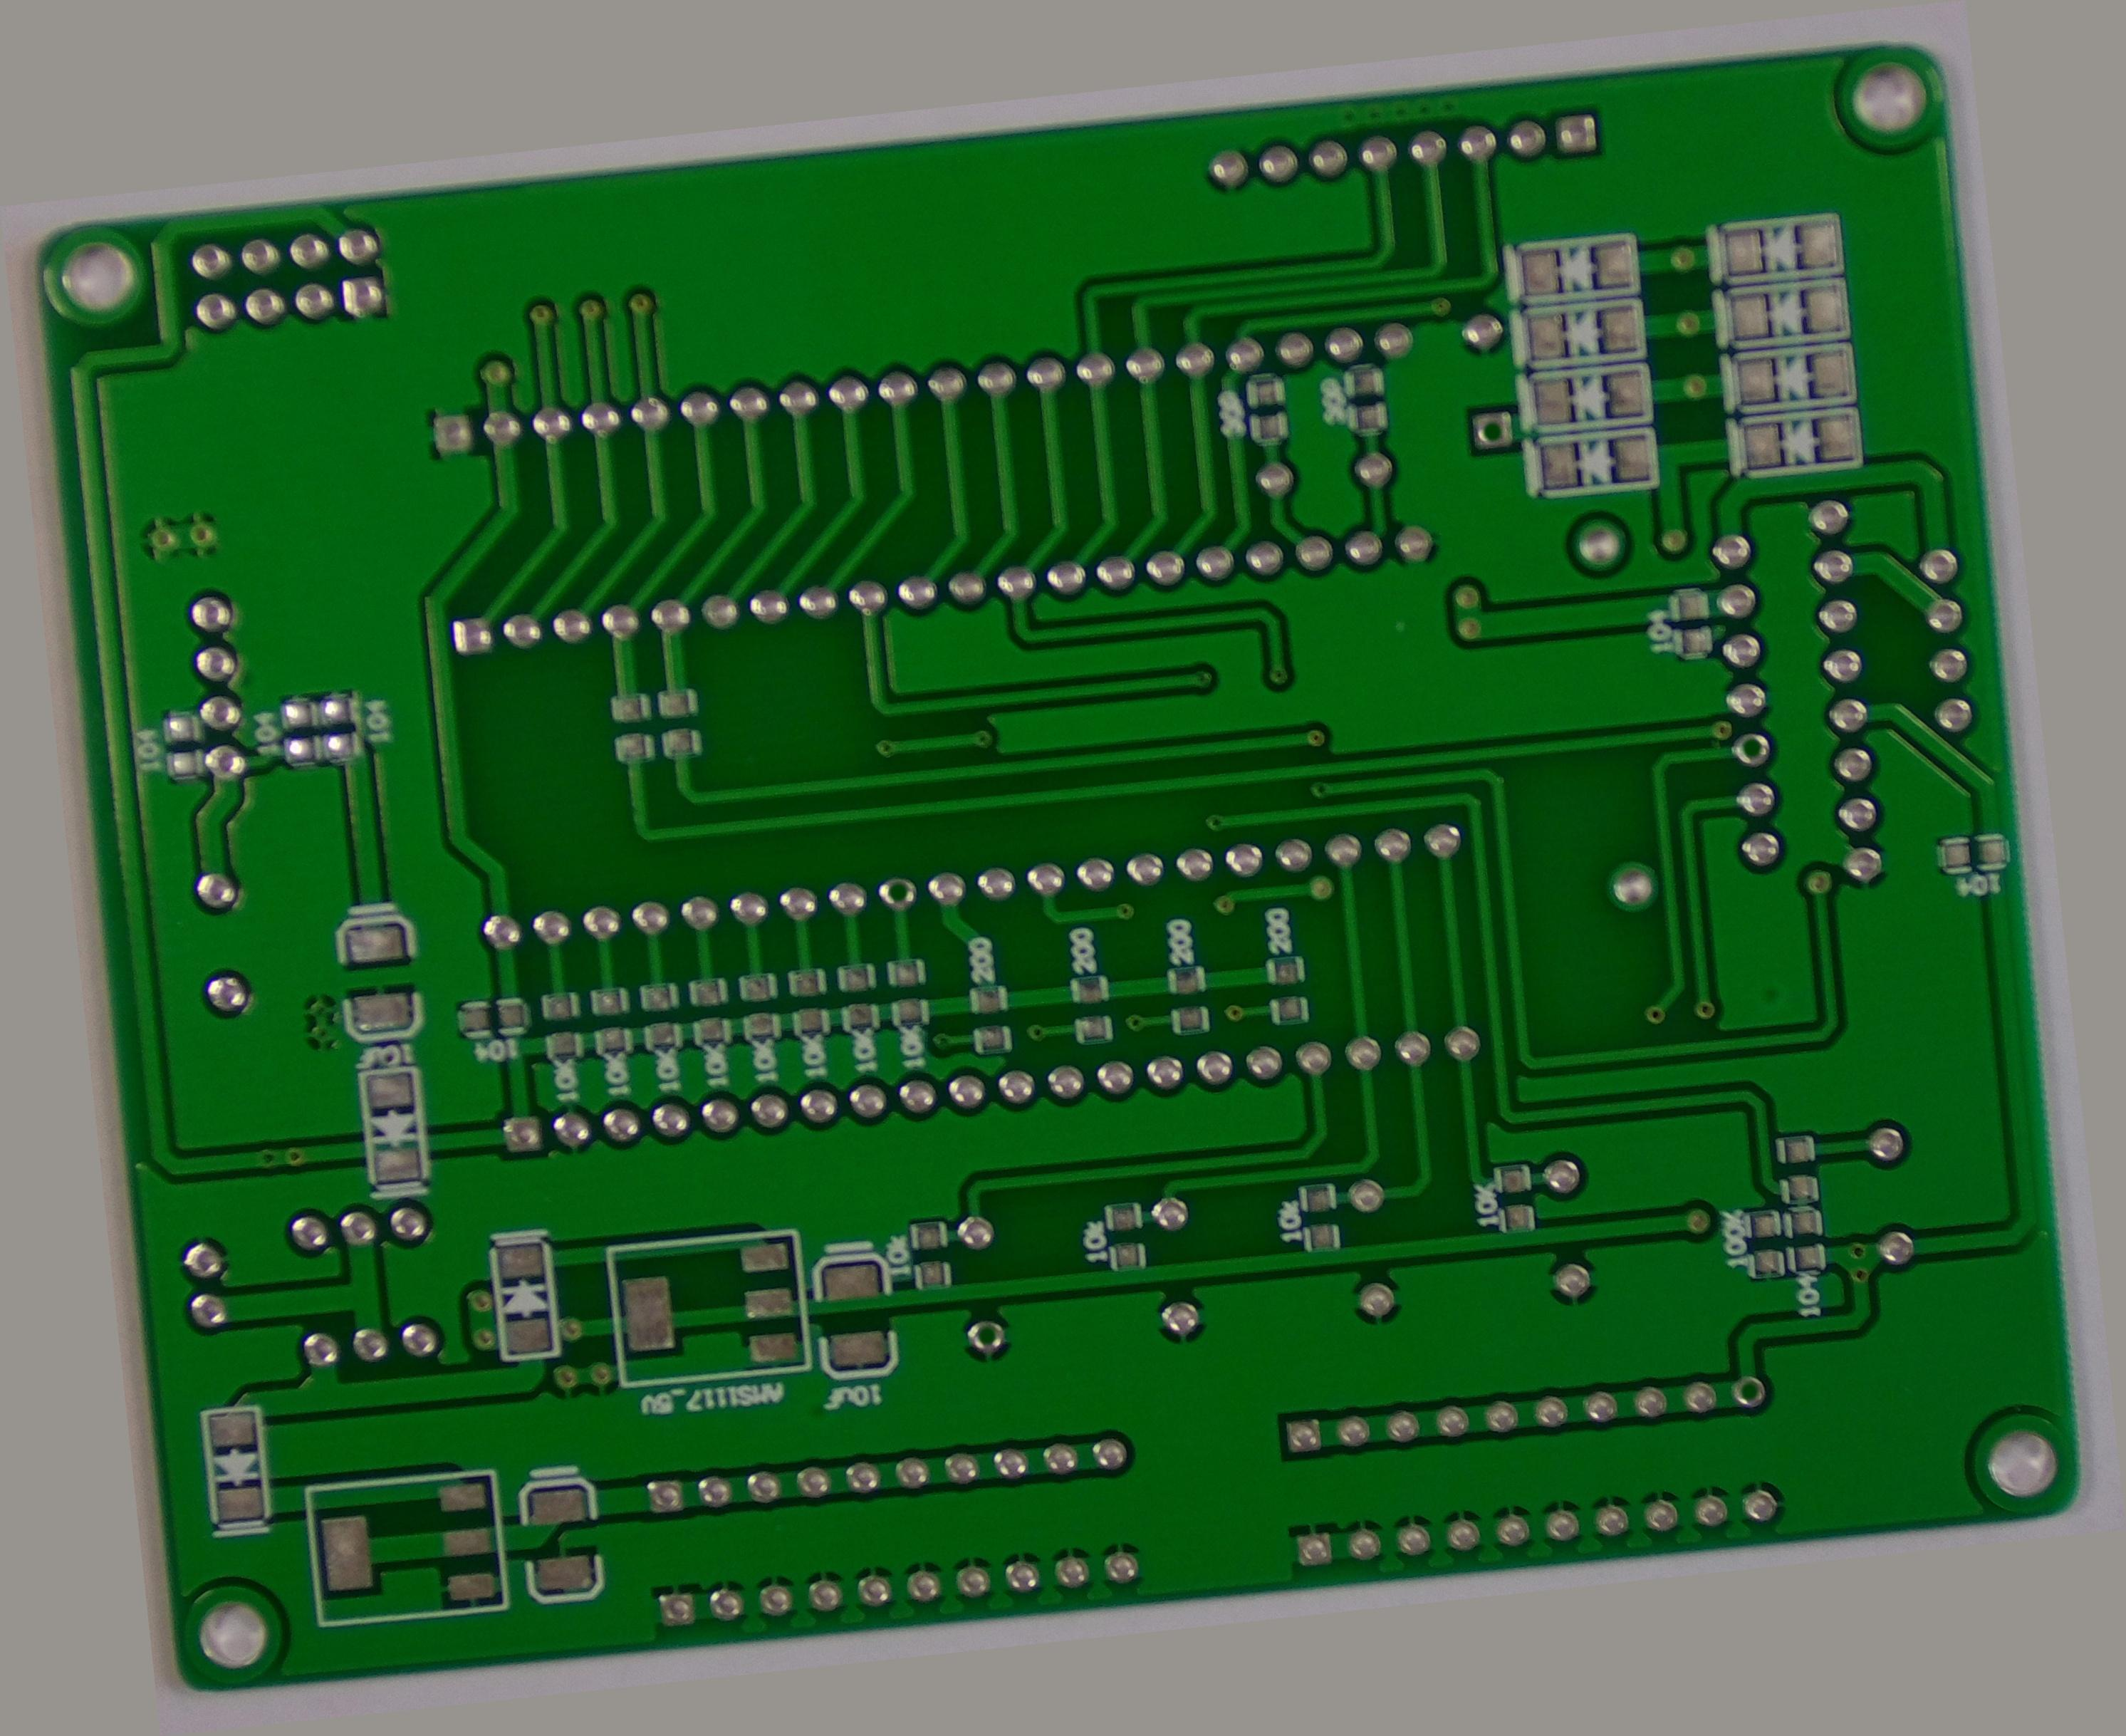missing_hole: (1709, 1508, 1768, 1563), (858, 851, 909, 901), (1550, 401, 1598, 452), (1789, 793, 1836, 837), (908, 1367, 950, 1409)
